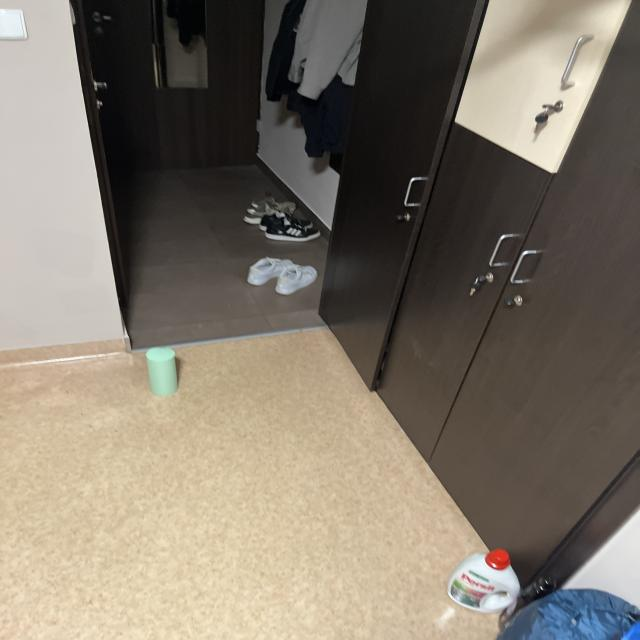meta: (146, 347, 178, 396)
